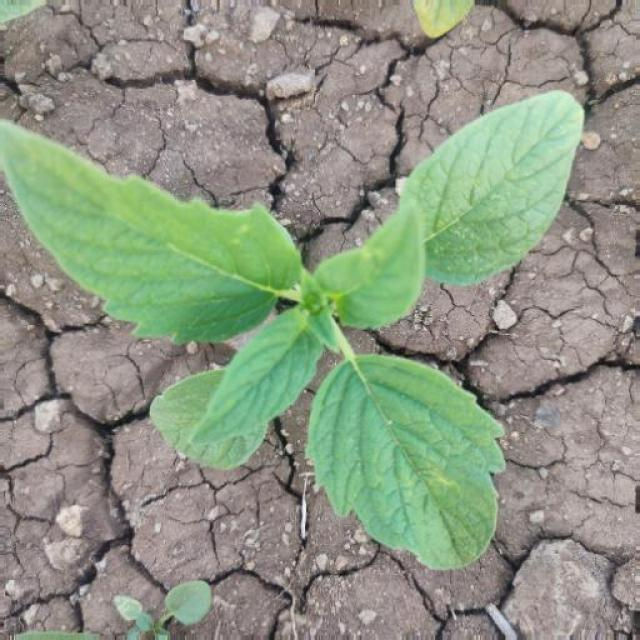crop: (1, 101, 592, 554)
